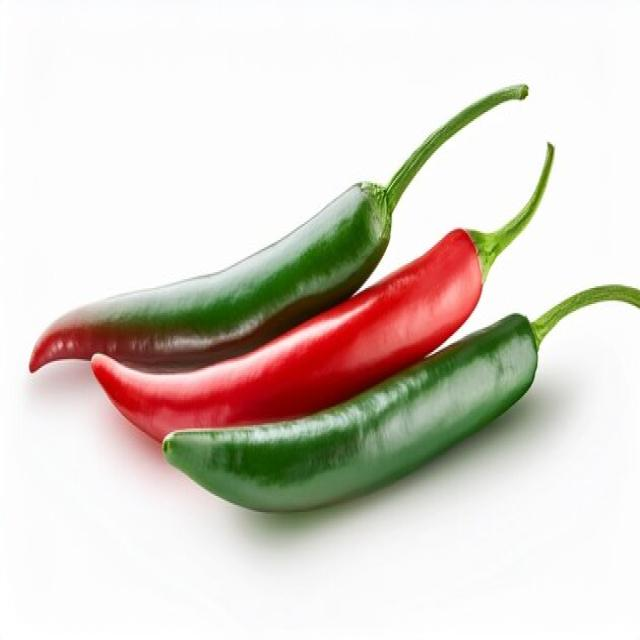Chilli: (28, 80, 530, 375), (94, 164, 560, 476), (161, 281, 638, 512)
